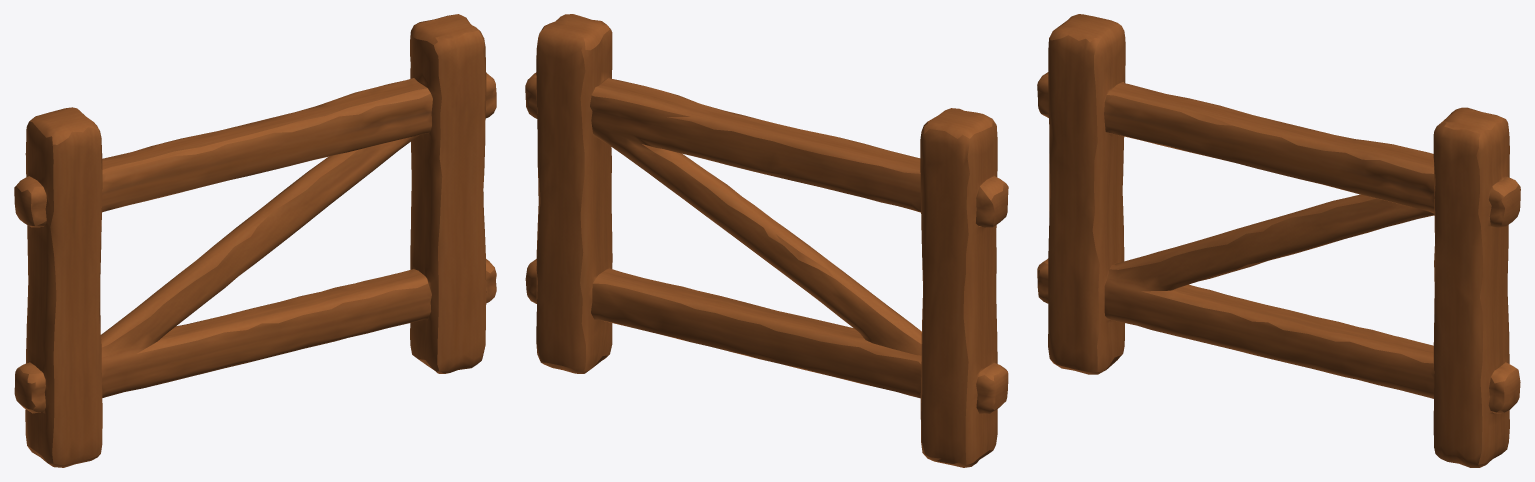
The model's file is ENV_09_RAIL.glb.
3 renders of one model, left to right at view 1: azimuth 30°, elevation 25°; view 2: azimuth 150°, elevation 25°; view 3: azimuth 330°, elevation 25°, orthographic.
Visible parts, largest first — view 1: world; view 2: world; view 3: world.
Boxes of the visible parts, x1=… form: world: x1=14, y1=14, x2=496, y2=467; world: x1=525, y1=14, x2=1008, y2=467; world: x1=1037, y1=14, x2=1520, y2=467.
Size of the model in its own units: 1 by 0.6912 by 0.12.
1 material, 1 textured.
